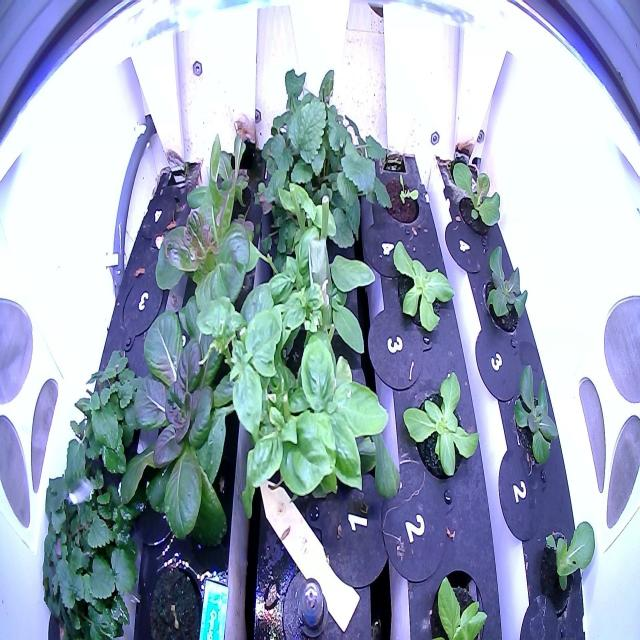empty_pod: (119, 264, 165, 349), (140, 189, 176, 248)
germination: (137, 558, 212, 638)
young: (115, 289, 264, 555), (148, 133, 268, 320), (398, 365, 484, 486), (182, 120, 260, 238), (533, 506, 600, 619), (385, 234, 456, 340), (505, 354, 559, 474), (474, 236, 532, 336), (422, 558, 493, 638), (449, 144, 506, 242), (383, 171, 426, 228)
